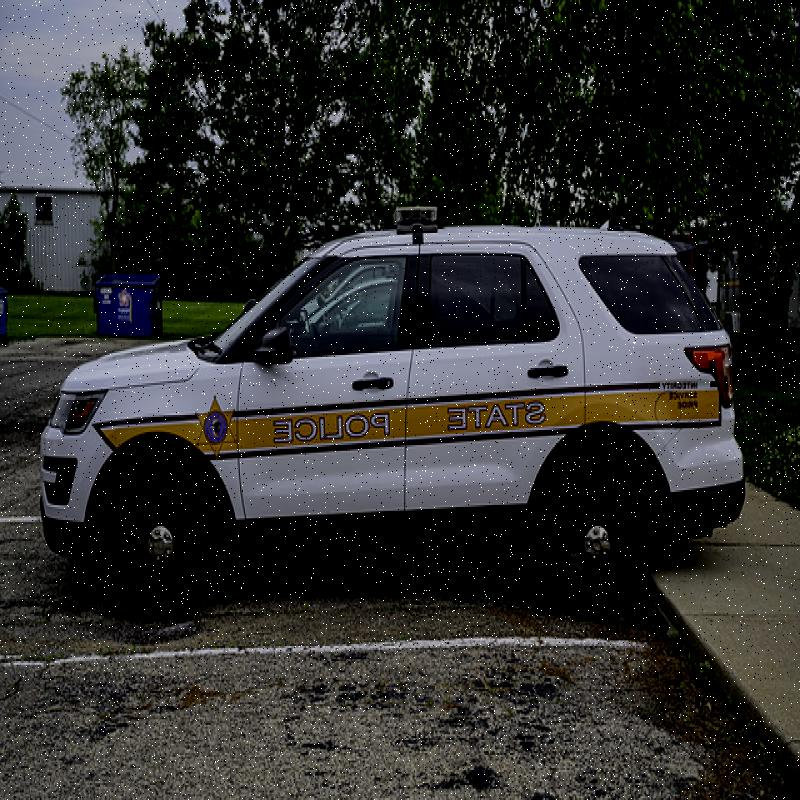AmbulanceSiren: (379, 183, 461, 259)
